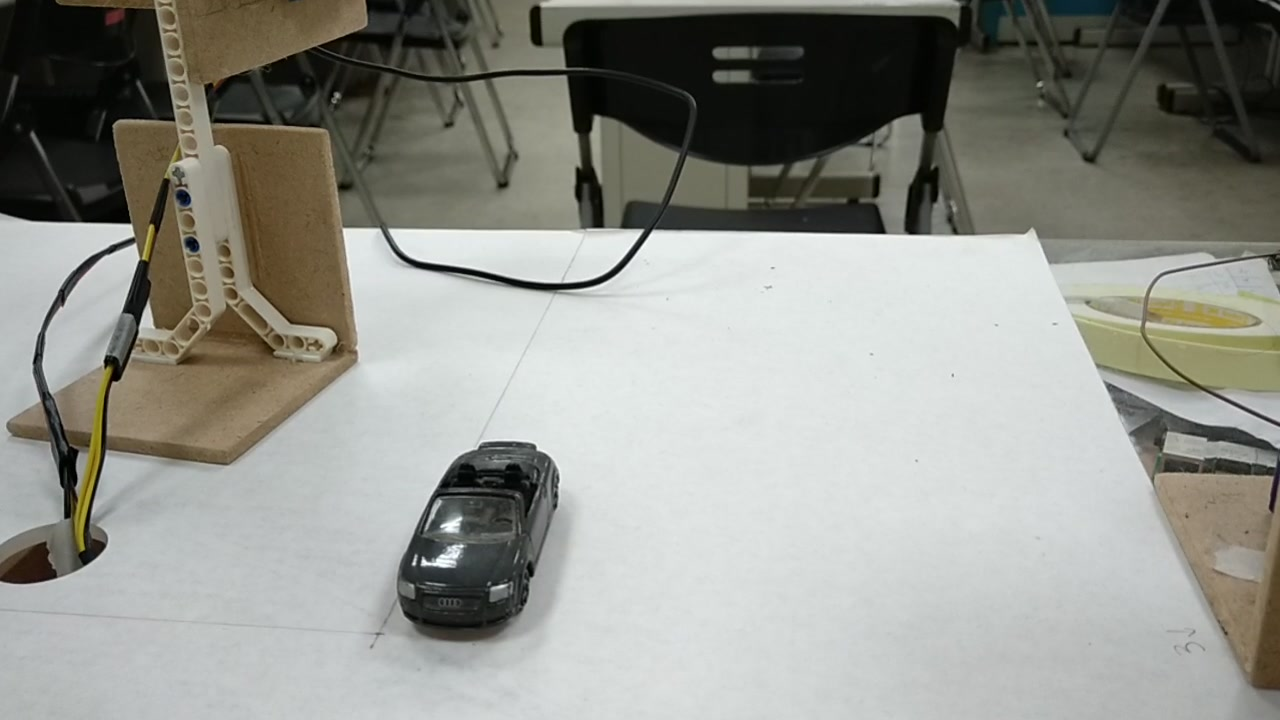car: (390, 448, 561, 633)
